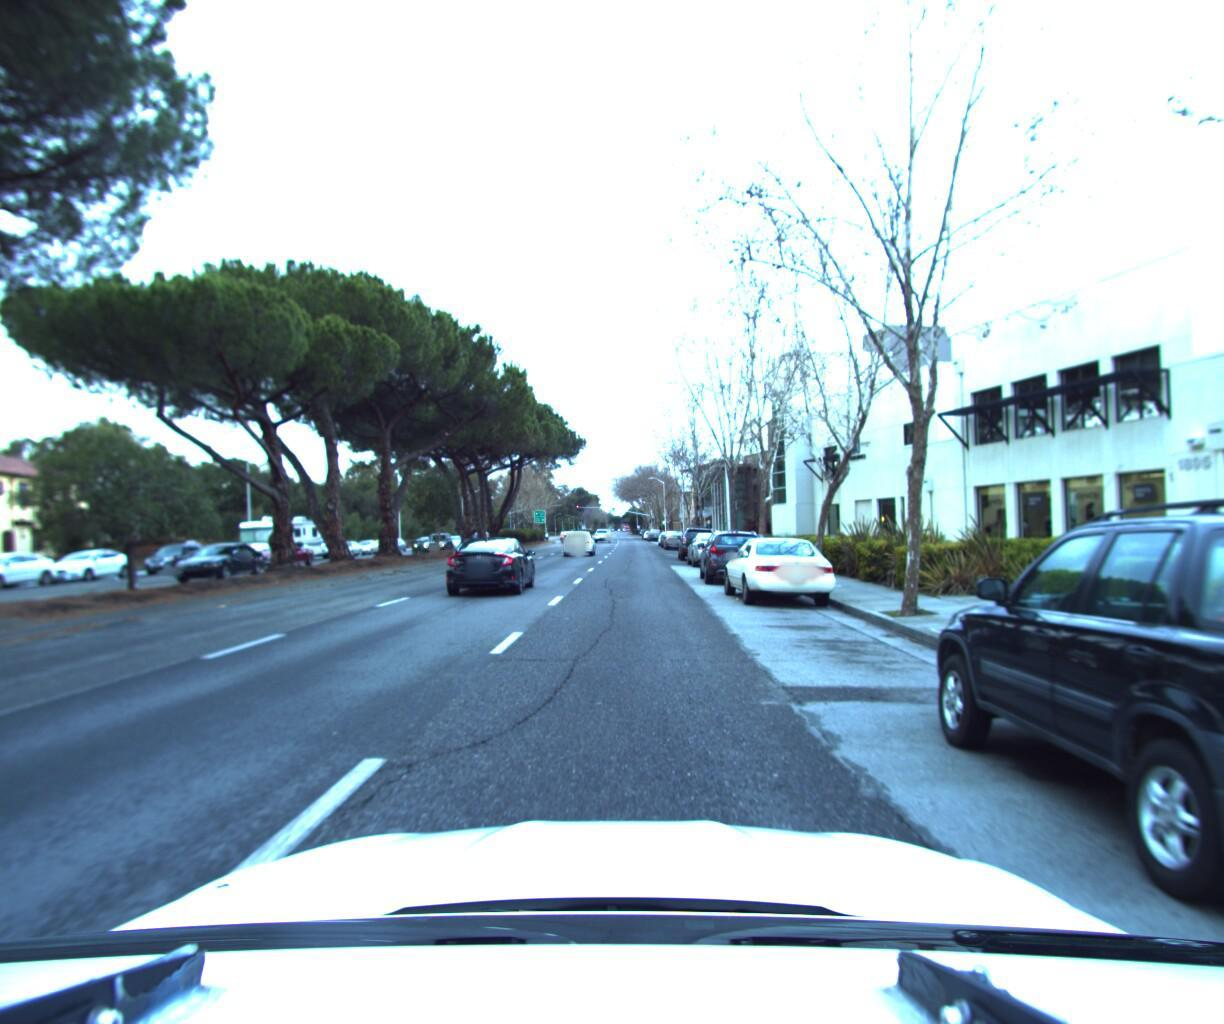car: (913, 428, 1224, 1024), (716, 530, 857, 610), (440, 531, 539, 596), (164, 543, 269, 586), (700, 524, 774, 585), (40, 546, 144, 587), (0, 550, 72, 596), (142, 540, 216, 577), (687, 527, 741, 565), (260, 540, 323, 570), (678, 521, 721, 560), (561, 527, 596, 555), (664, 527, 690, 547)
other_vehicle: (230, 510, 330, 565)
